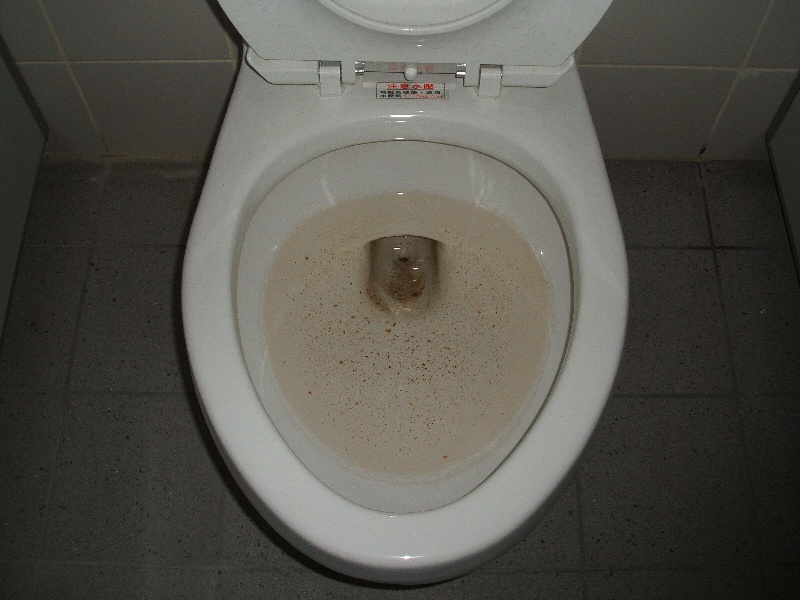toilet: (182, 1, 627, 585)
